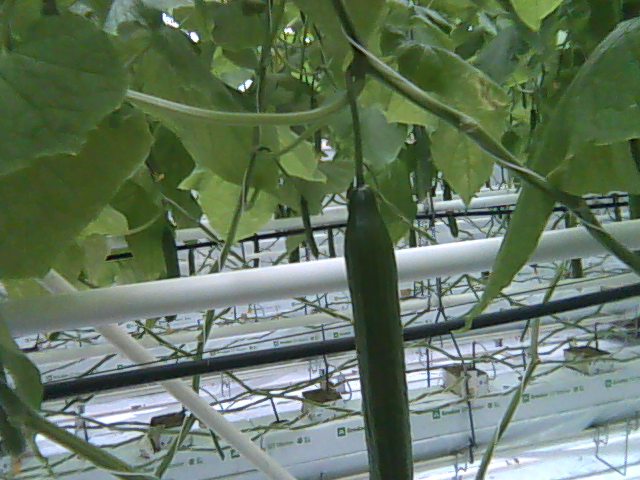concombre: (339, 173, 418, 480)
